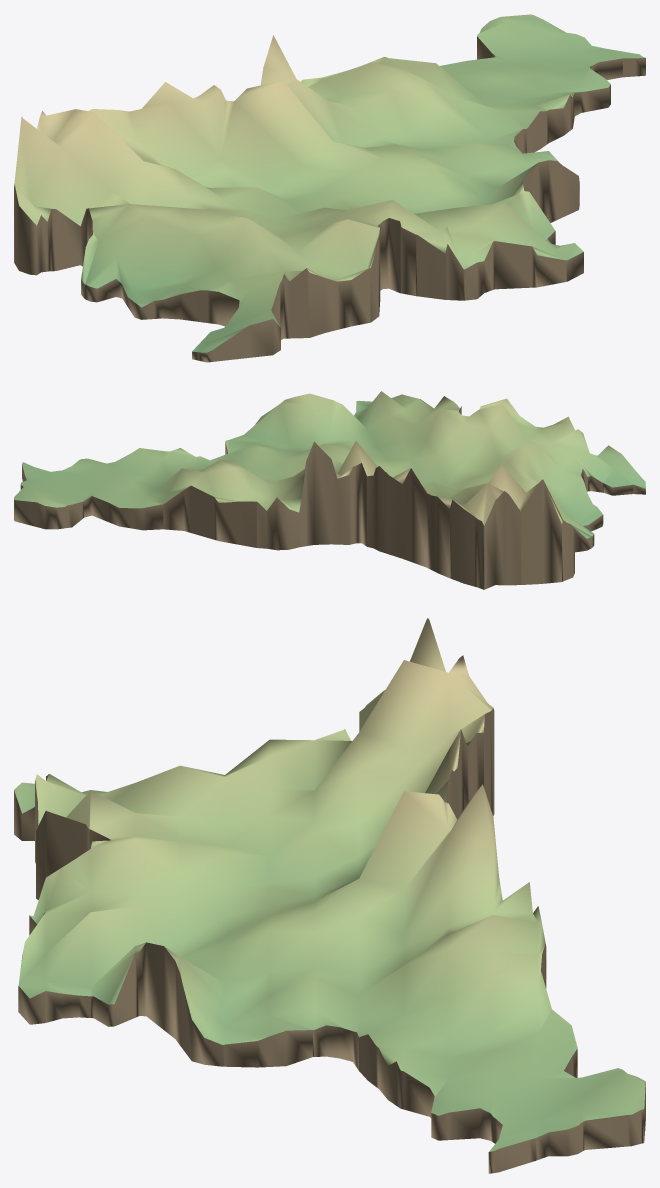
The model's file is SVN.glb.
The picture shows the model from 3 angles, top to bottom: view 1: azimuth 30°, elevation 25°; view 2: azimuth 150°, elevation 25°; view 3: azimuth 270°, elevation 25°; orthographic projection. The views are drawn at different scales.
Parts seen in each view (by area): view 1: SVN; view 2: SVN; view 3: SVN.
Boxes of the visible parts, <box> form: SVN: <box>14,14,645,362</box>; SVN: <box>14,391,645,589</box>; SVN: <box>14,618,645,1173</box>.
Bounding box in the file's own units: 1.75 × 0.338 × 1.16.
